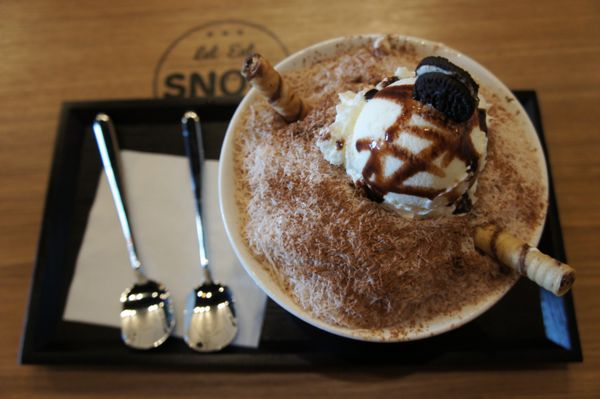curry: (45, 2, 599, 392)
